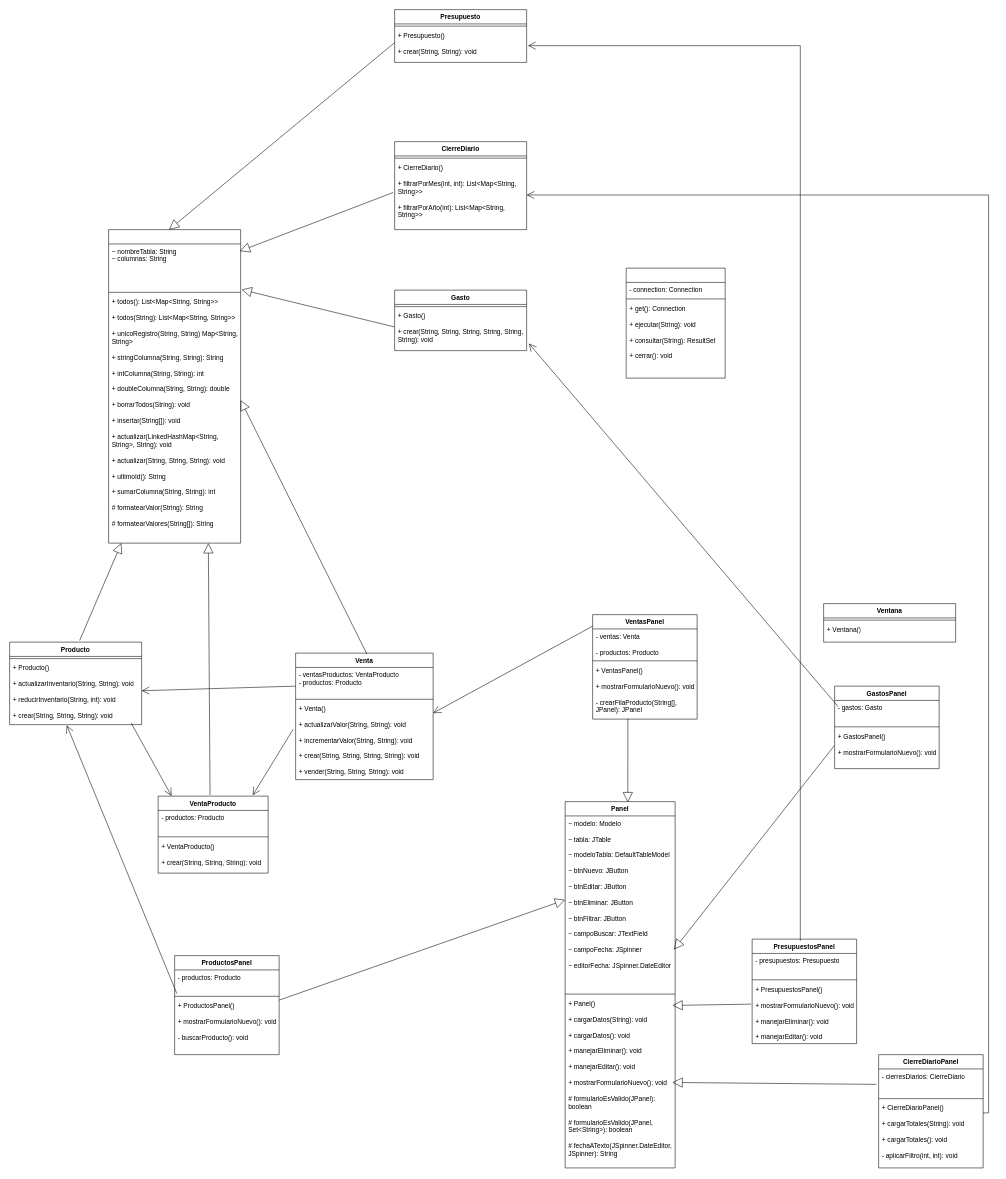
Image size: 1006x1179. Some labels were removed from this diagram. Here are the shapes that lost their labels. From the top down, the box of each, then its label:
(626, 268, 725, 378): DBConnection
(108, 229, 241, 543): Modelo
